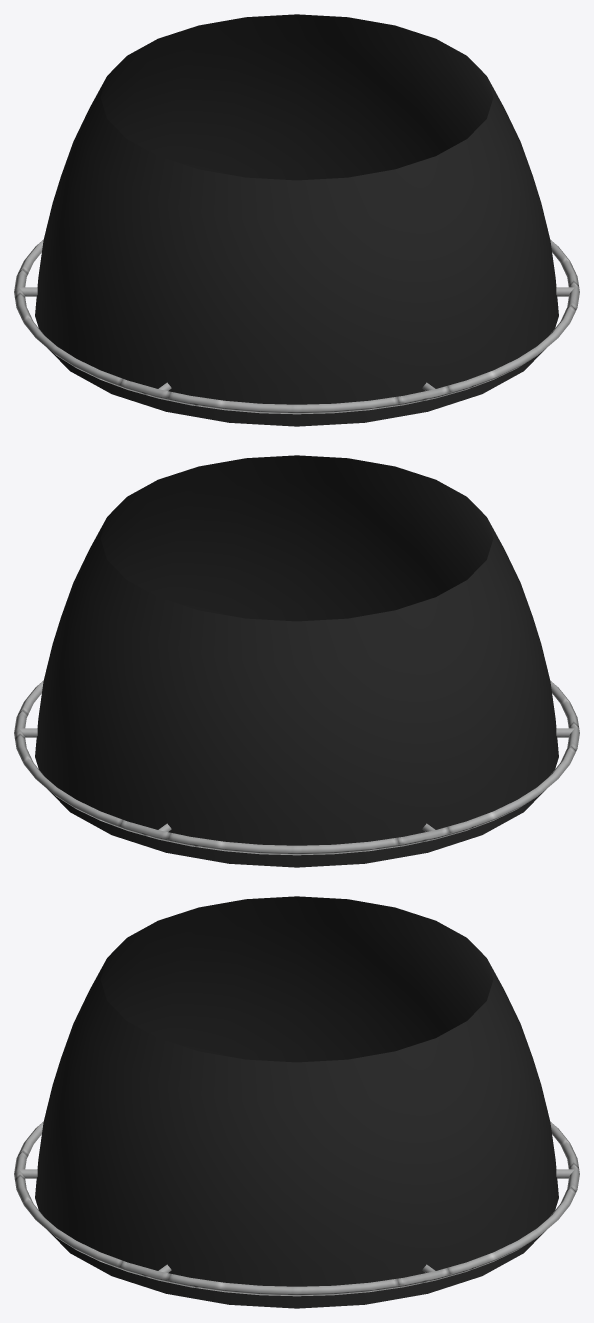
The model's file is hadar_adapter_s1_s0p5_2.obj.
3 renders of one model, top to bottom at view 1: azimuth 30°, elevation 25°; view 2: azimuth 150°, elevation 25°; view 3: azimuth 270°, elevation 25°, orthographic.
Visible parts, largest first — view 1: mesh; view 2: mesh; view 3: mesh.
Boxes of the visible parts, x1,y1,x2,y2 form: mesh: (14, 14, 579, 426); mesh: (14, 455, 579, 867); mesh: (14, 896, 579, 1308).
Size of the model in its own units: 1.35 by 0.575 by 1.35.
